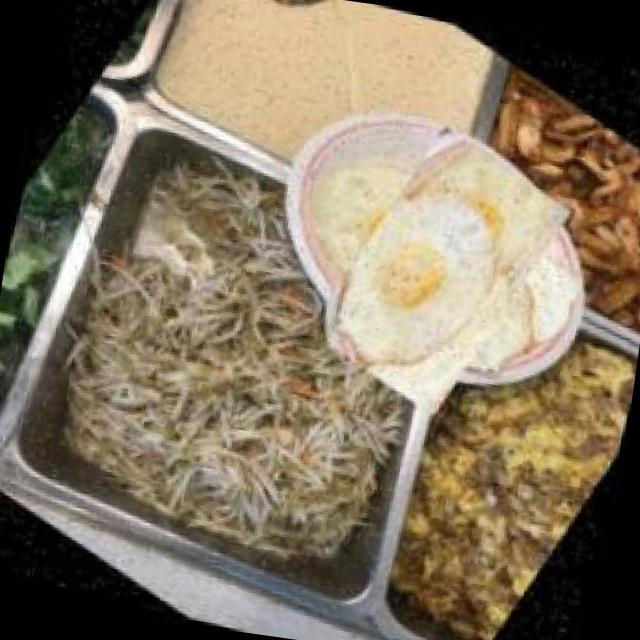fried_eggs: (279, 110, 599, 430)
mung_bean_sprouts: (24, 150, 458, 597)
